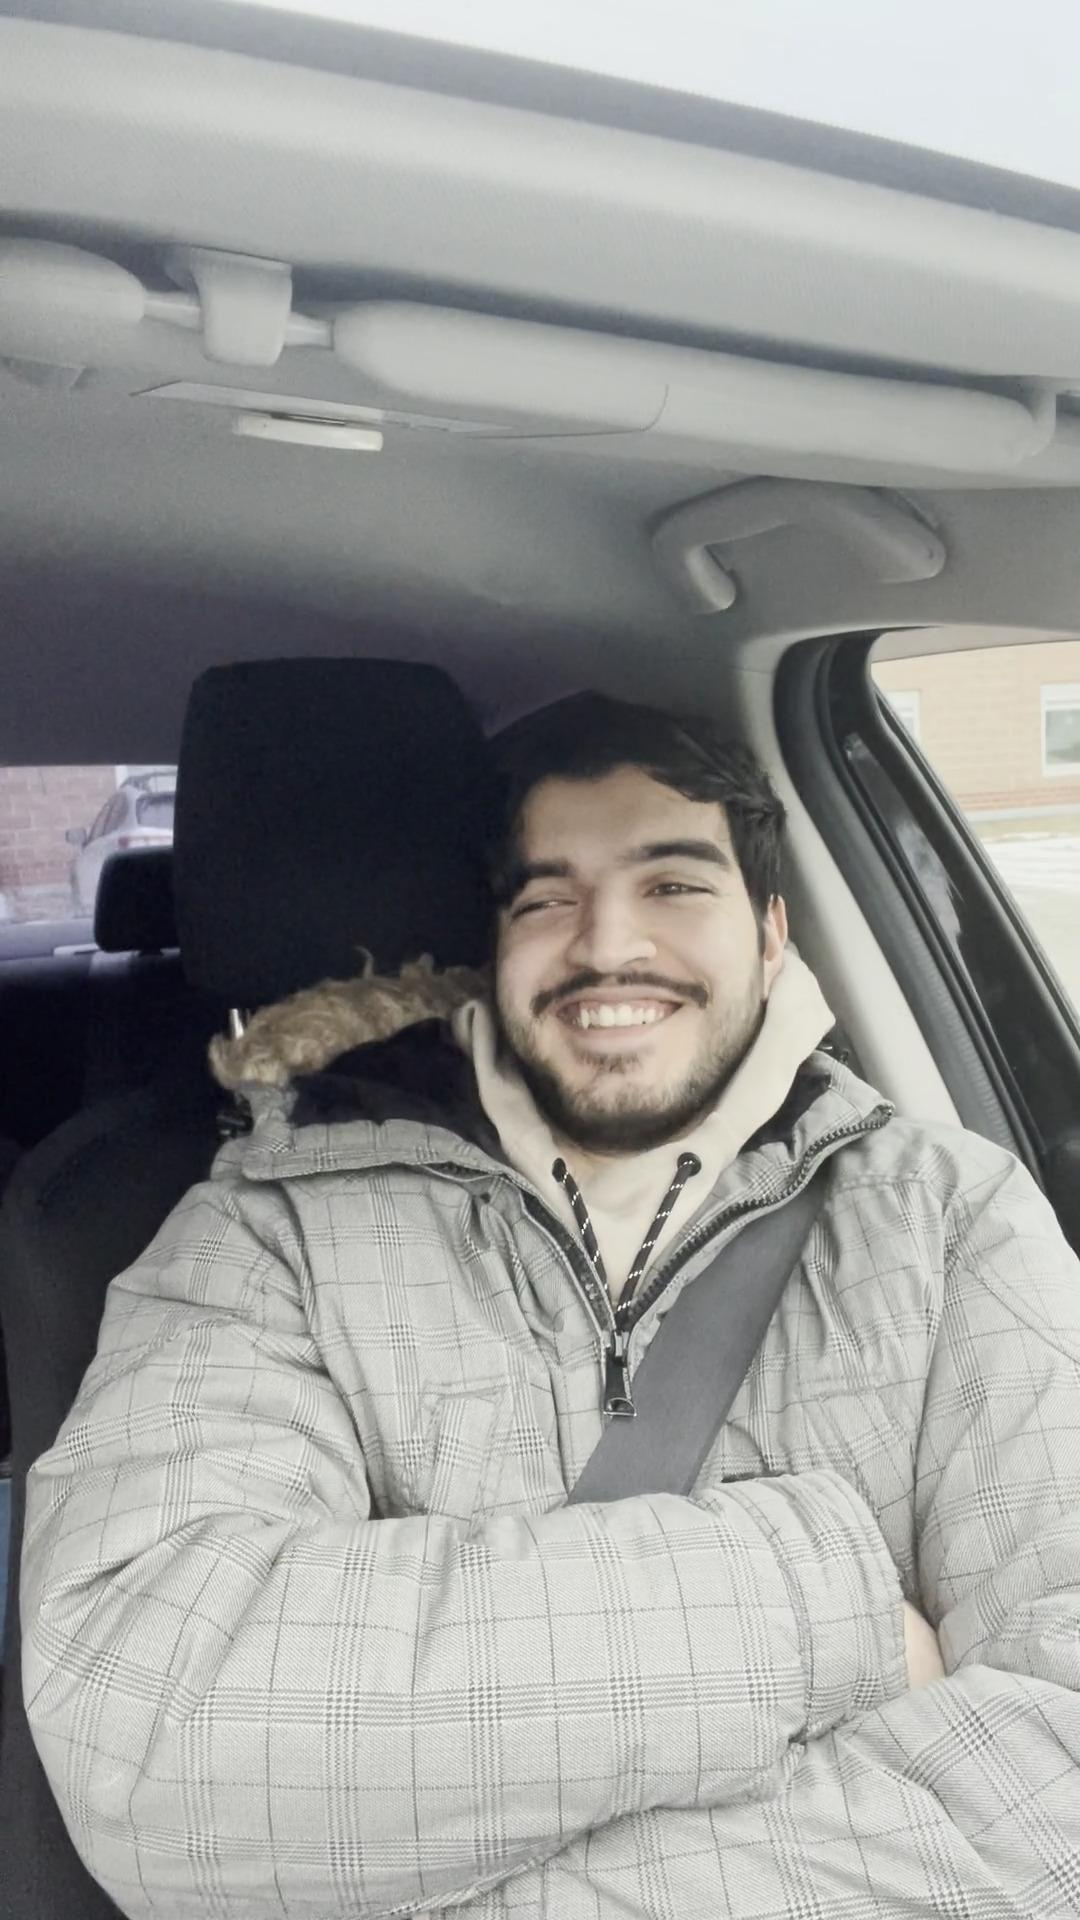seatbelt: (310, 1131, 1005, 1577)
